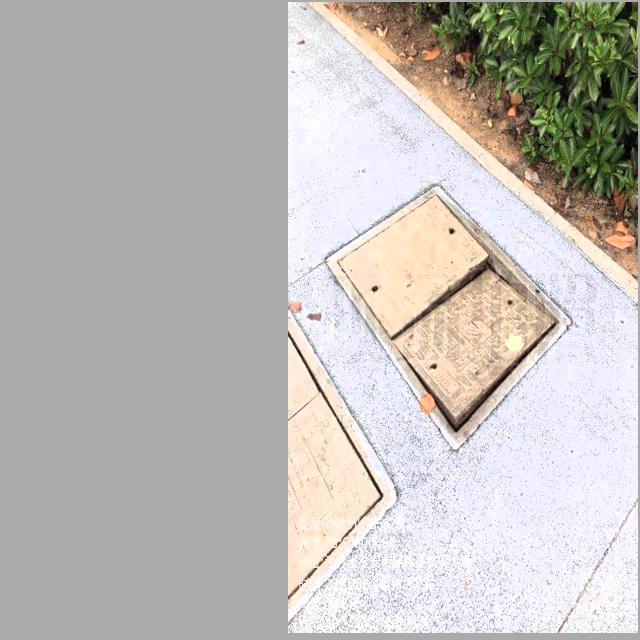uncovered: (325, 184, 571, 451)
